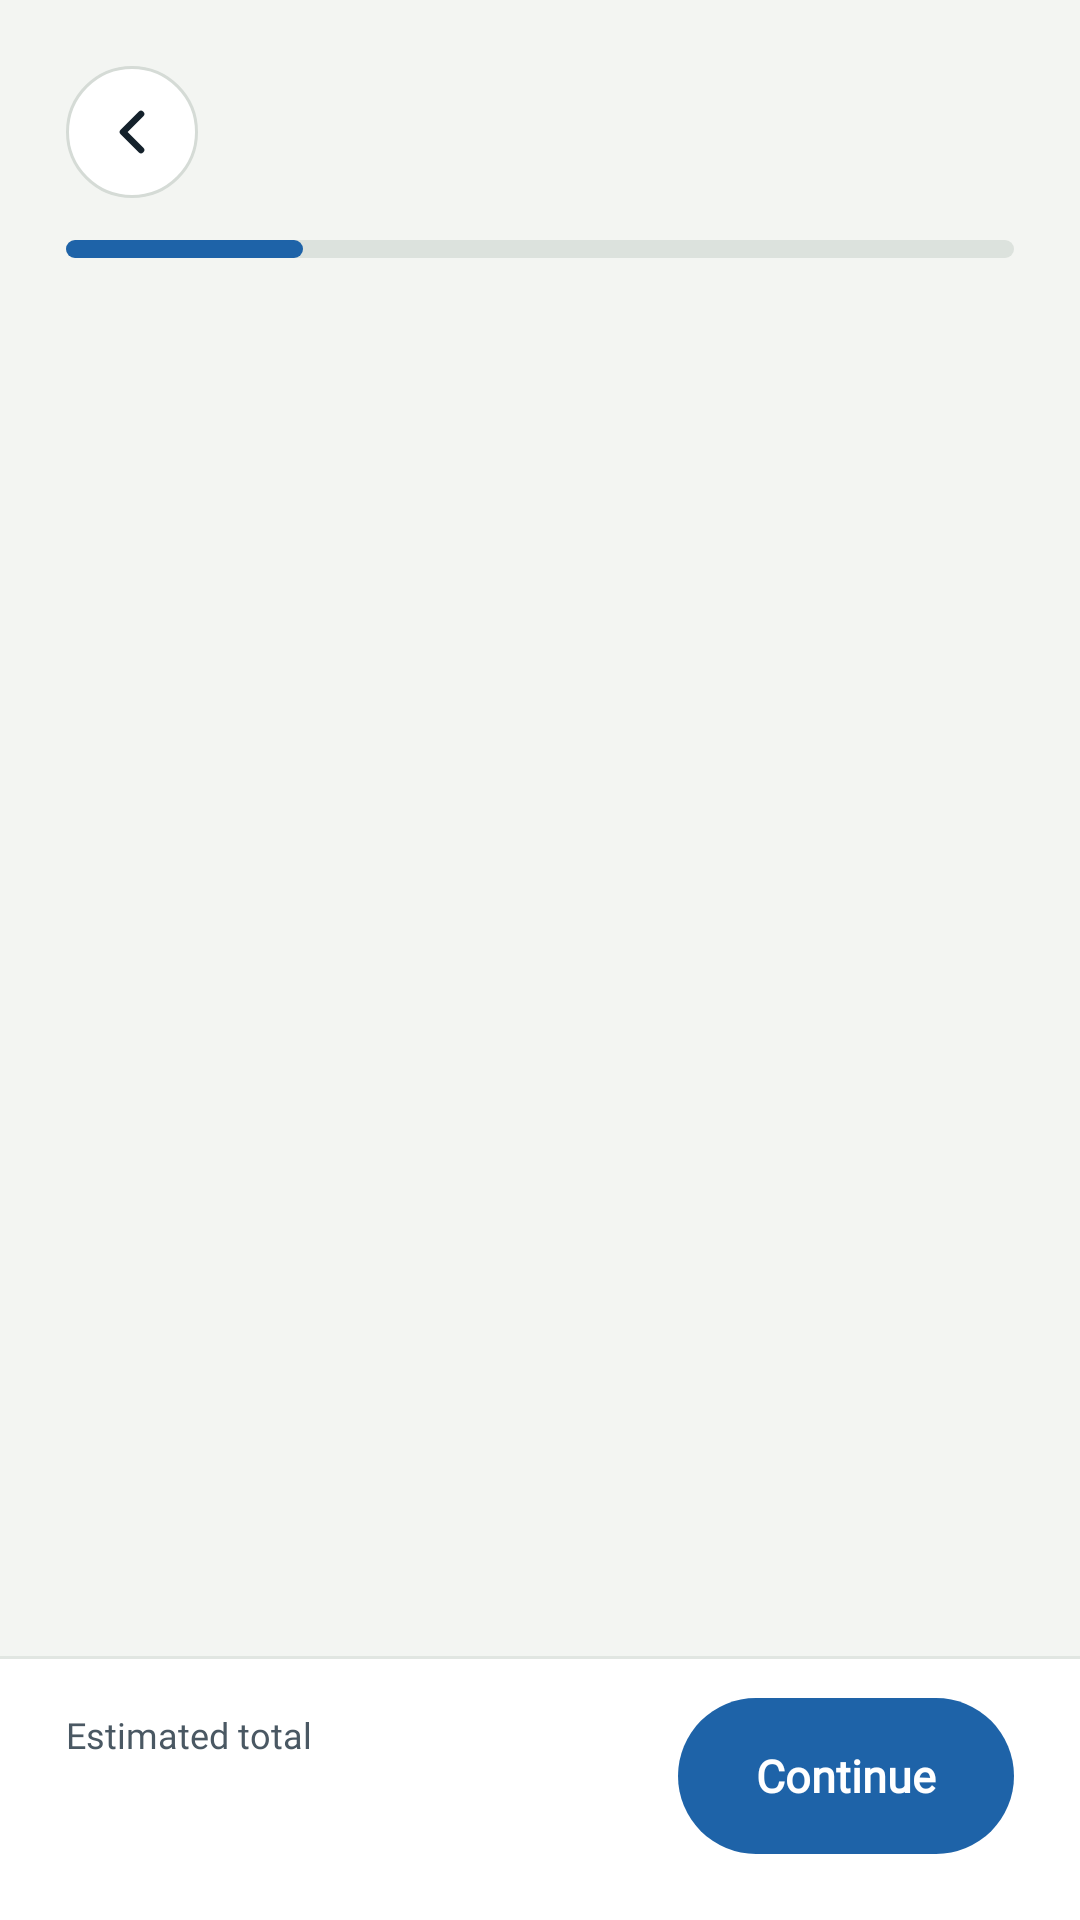

Icon bounding boxes for this 1080px x 1920px phone screenshot, format (x1, y1, x2, y2):
Back: (66, 66, 198, 198)
